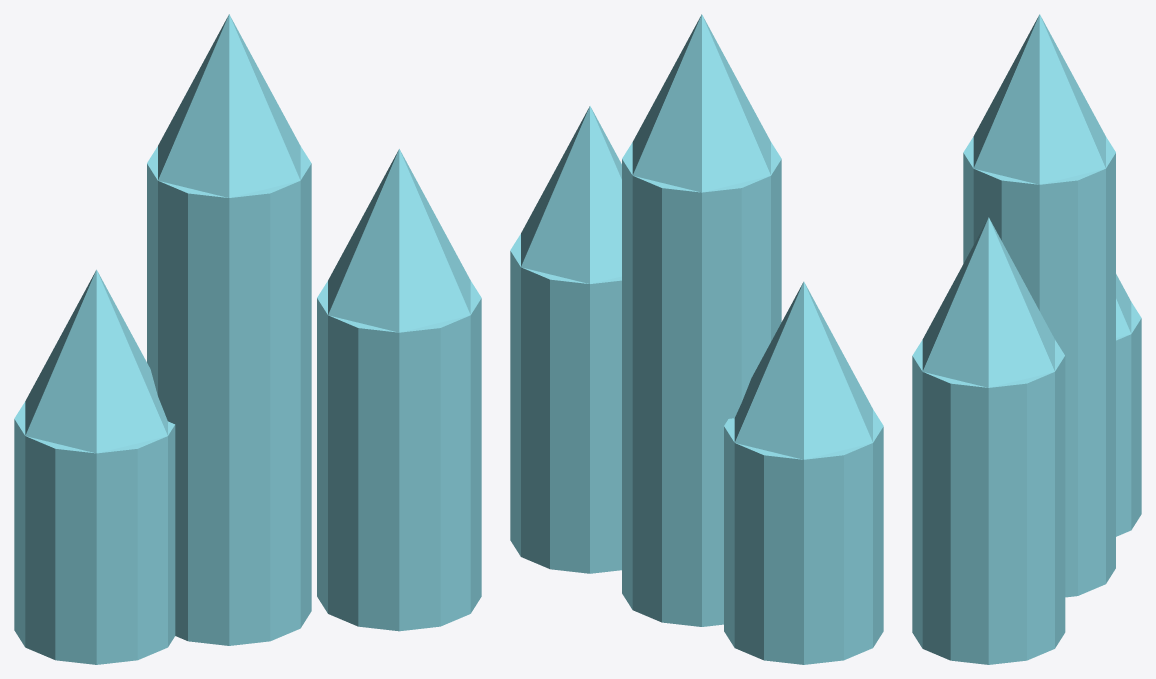
File: ice_crystals.glb
The picture shows the model from 3 angles, left to right: view 1: azimuth 30°, elevation 25°; view 2: azimuth 150°, elevation 25°; view 3: azimuth 270°, elevation 25°; orthographic projection. The views are drawn at different scales.
Parts seen in each view (by area): view 1: body (×3), tip (×3); view 2: body (×3), tip (×3); view 3: body (×3), tip (×3).
Boxes of the visible parts, left/top/right/bottom form: body (×3): left=14, top=146, right=481, bottom=664; tip (×3): left=25, top=14, right=470, bottom=453; body (×3): left=510, top=142, right=883, bottom=664; tip (×3): left=521, top=14, right=872, bottom=459; body (×3): left=912, top=136, right=1141, bottom=664; tip (×3): left=922, top=14, right=1131, bottom=387.
Size of the model in its own units: 1.7 by 2.4 by 0.9.
